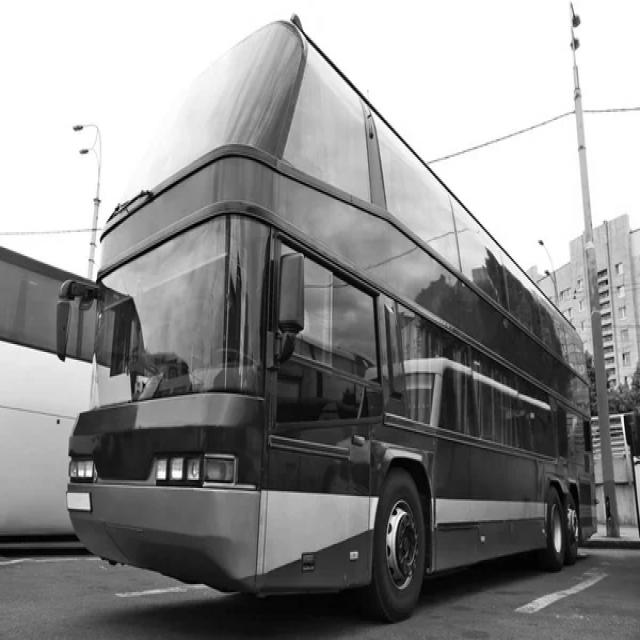Bus: (58, 21, 597, 622)
Pole: (572, 3, 621, 539)
